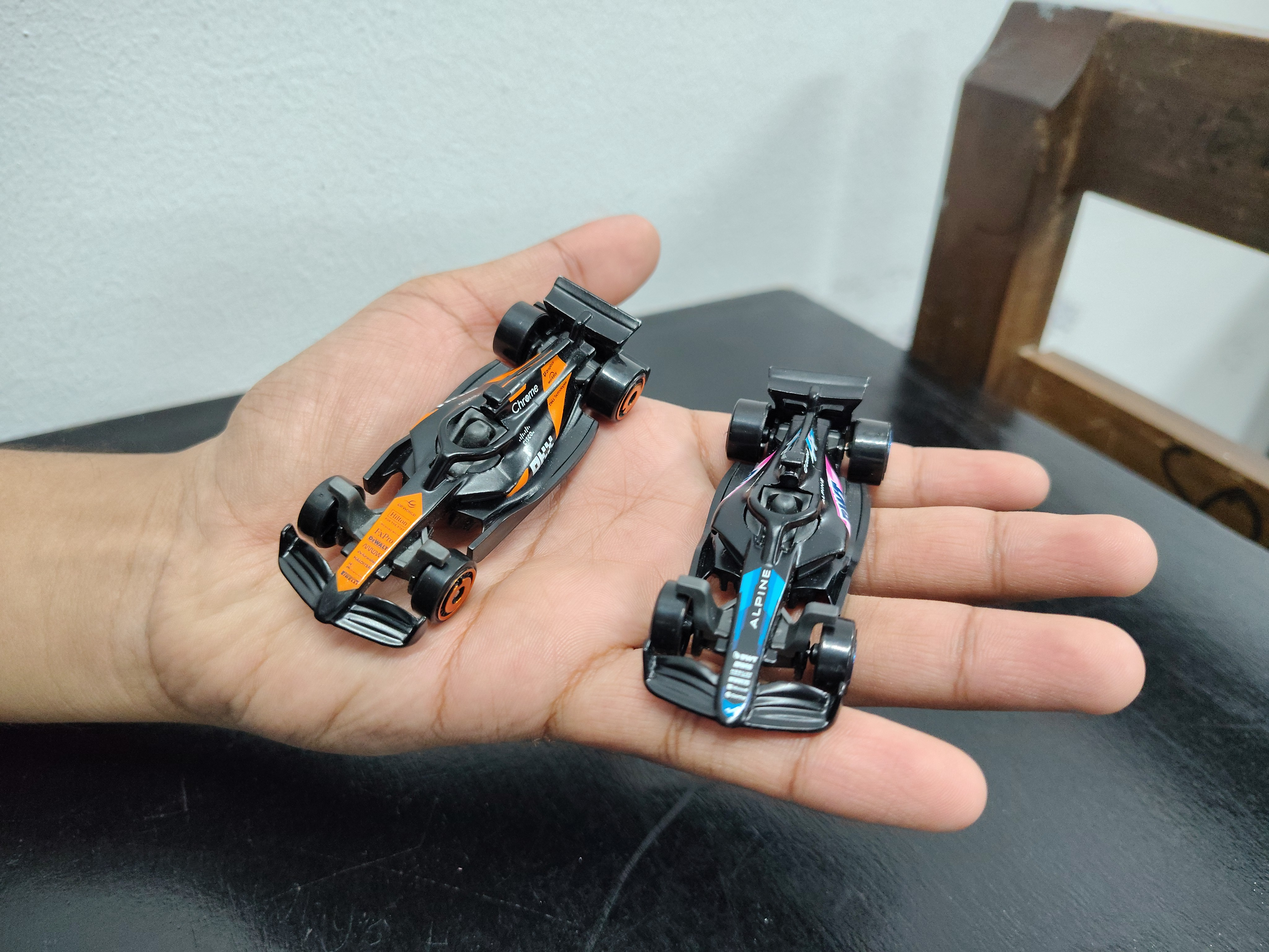Alpine A524: (657, 301, 898, 759)
McLaren MCL40: (271, 288, 646, 628)
